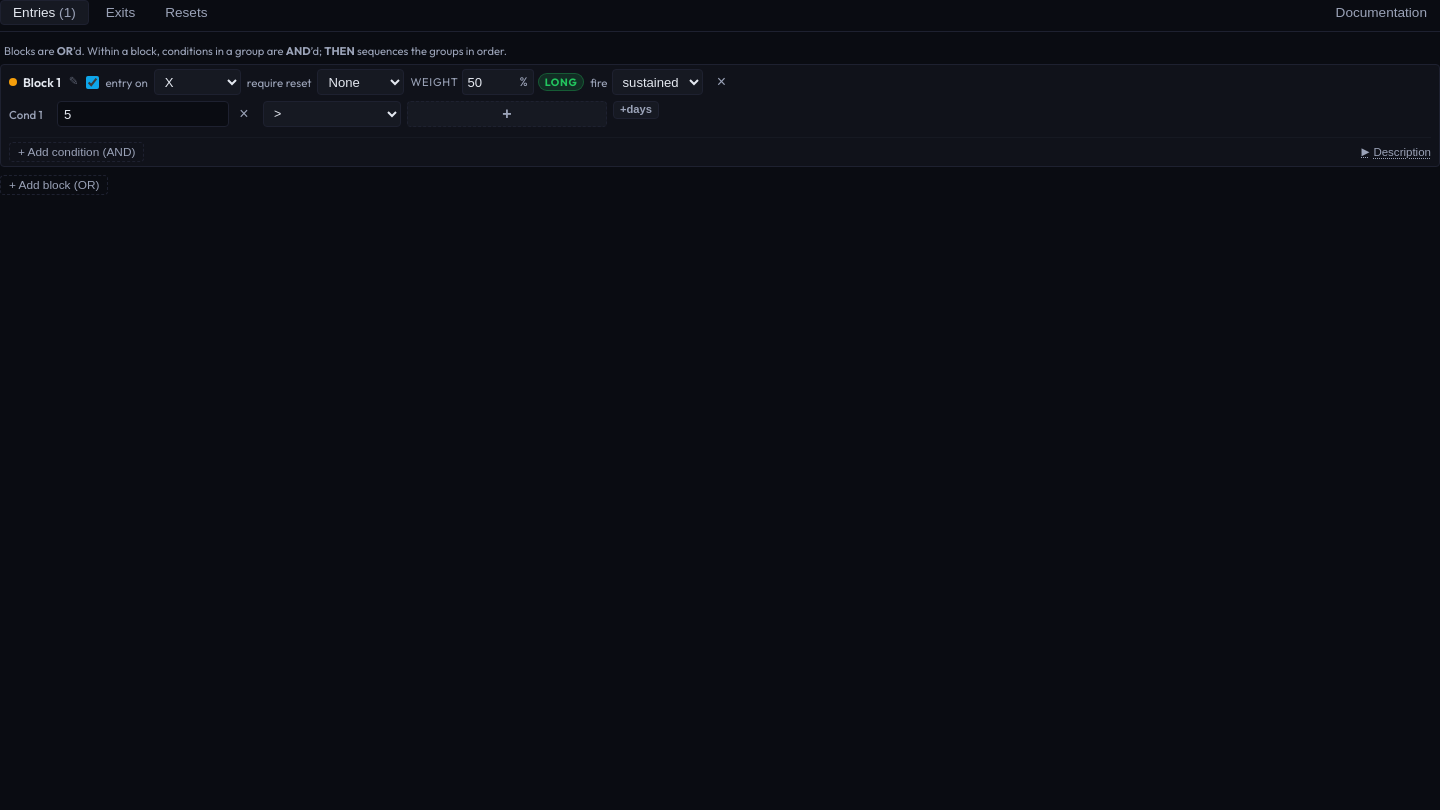
BlockEditor (v4 / two-section model) › clicking × on a filled operand opens the ConfirmDialog
Click the button with test id "operand-clear-btn": {"x": 244, "y": 114} [231, 101, 257, 127]
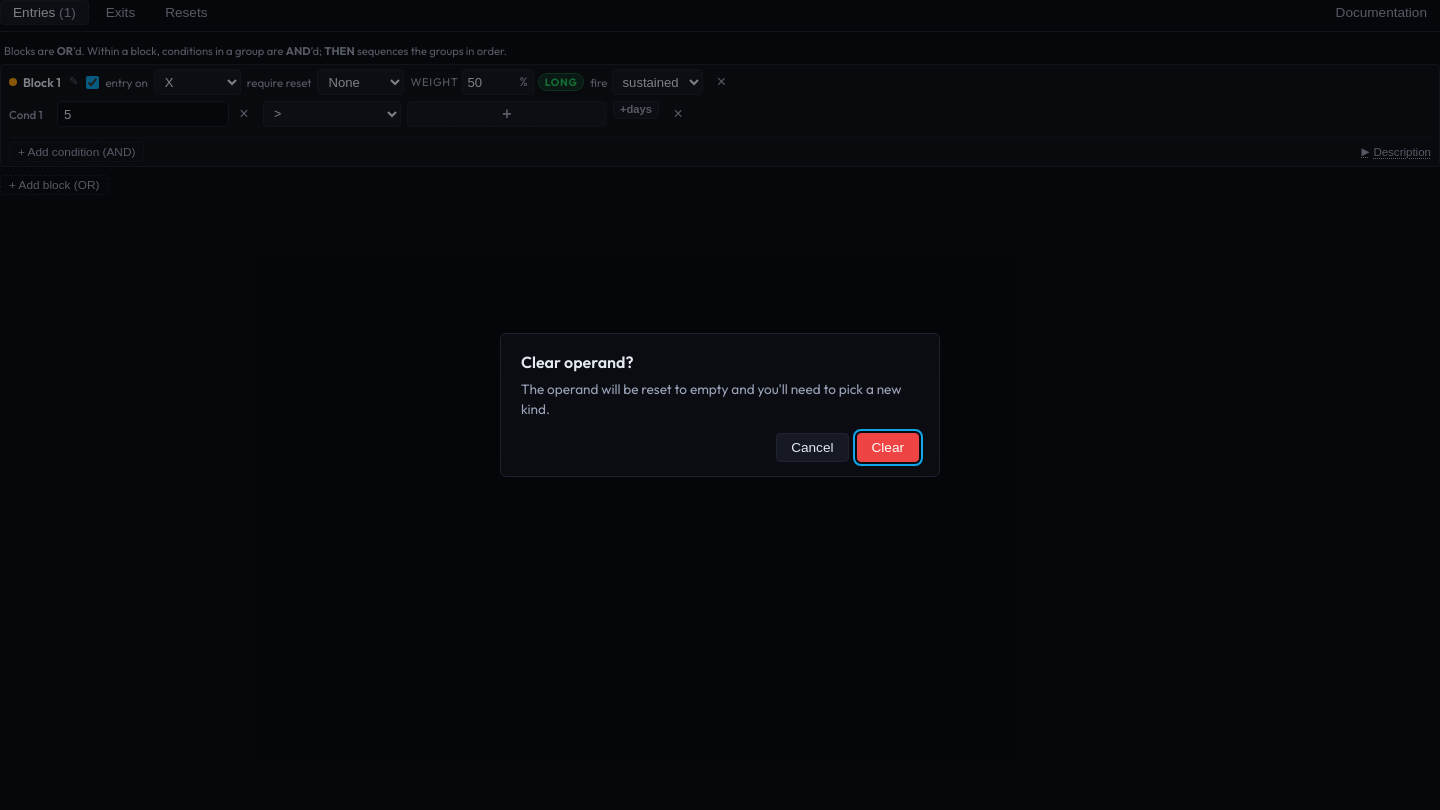
expect the dialog with test id "confirm-dialog" is shown: met, box [500, 334, 940, 477]
